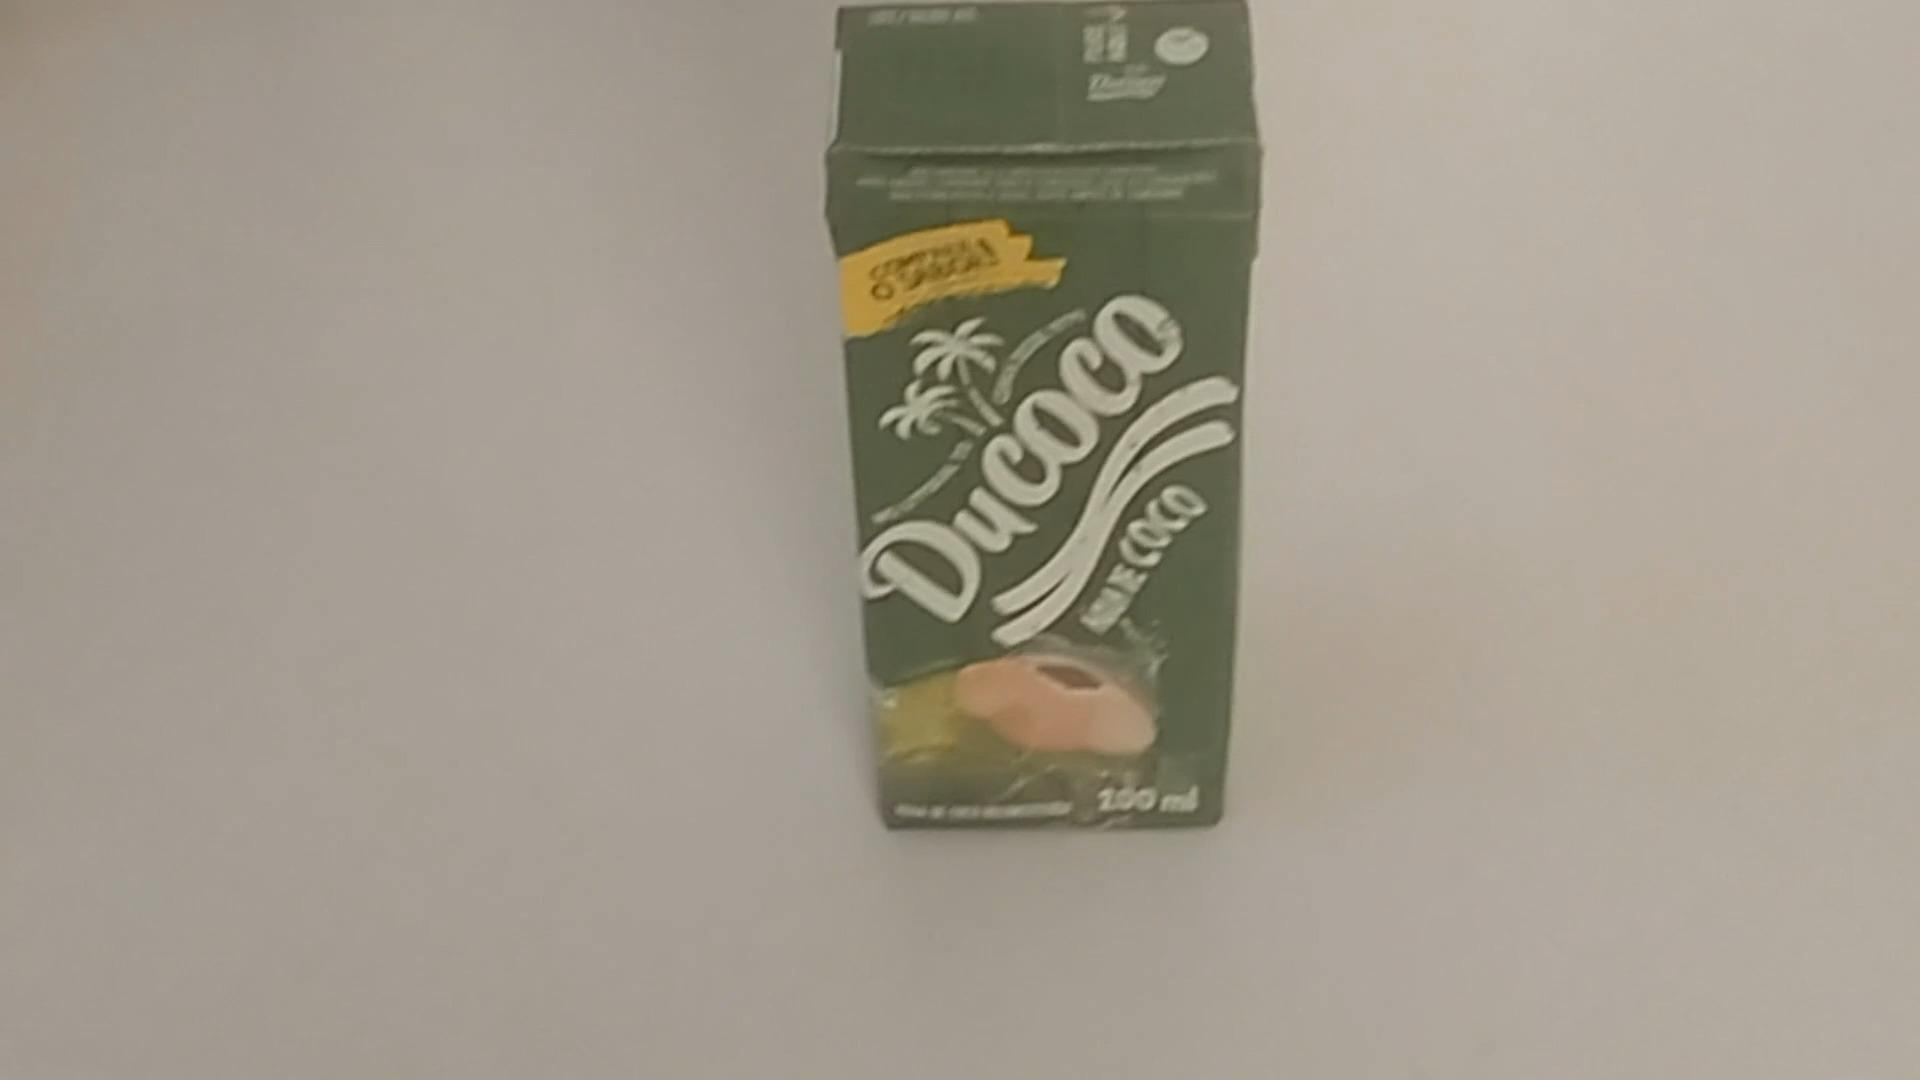coco: (833, 0, 1263, 840)
